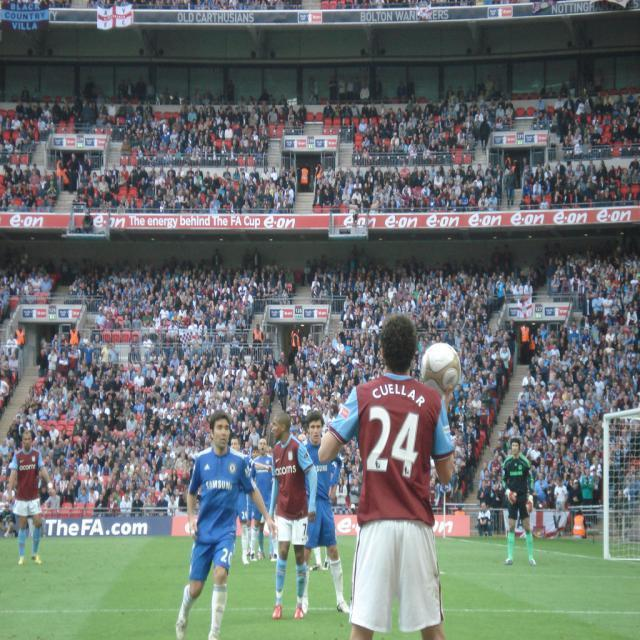football: (412, 336, 471, 395)
